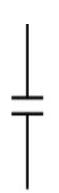Capacitor: (4, 79, 49, 126)
